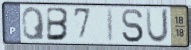7: (72, 7, 93, 43)
B: (46, 6, 71, 42)
I: (105, 6, 115, 45)
Q: (20, 6, 47, 42)
S: (121, 7, 145, 44)
U: (144, 7, 170, 45)
